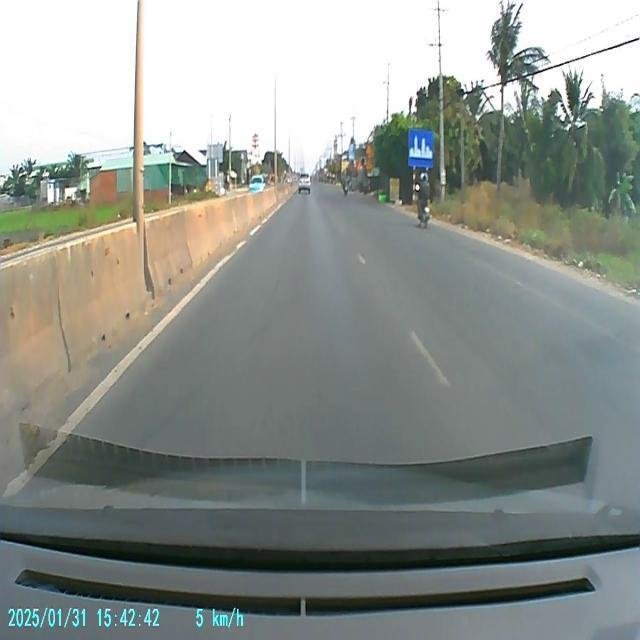420-bat-dau-khu-dong-dan-cu: (408, 130, 434, 166)
